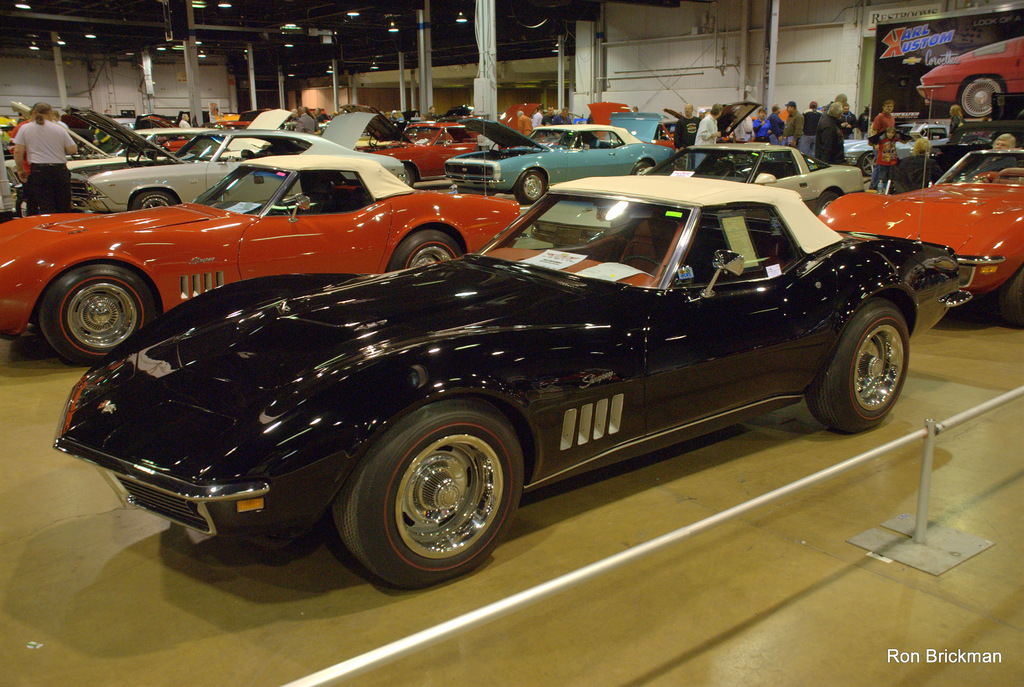Car: (0, 36, 1023, 594)
